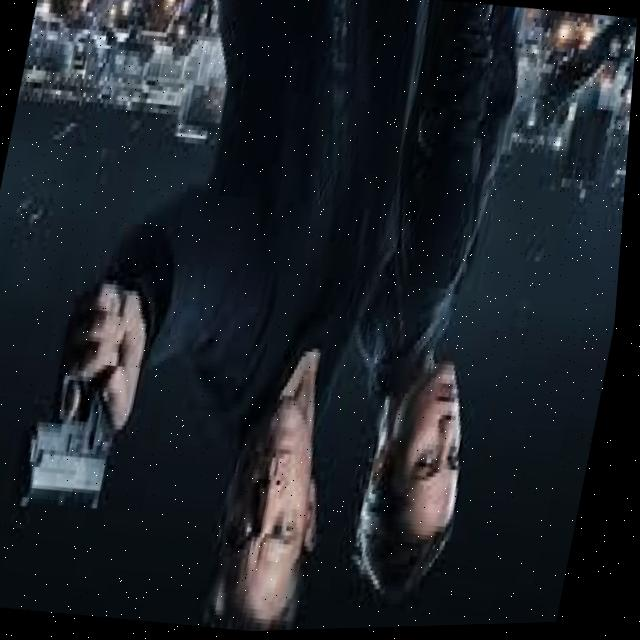pistol: (12, 363, 136, 530)
